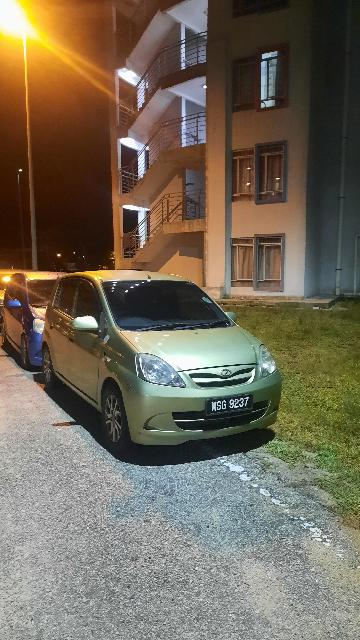License_Plate: (203, 392, 255, 414)
car: (42, 271, 284, 452)
